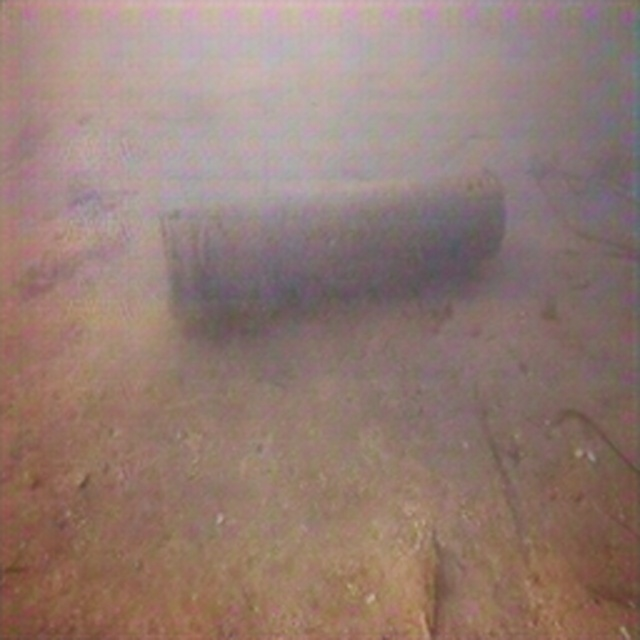mine: (161, 166, 505, 322)
